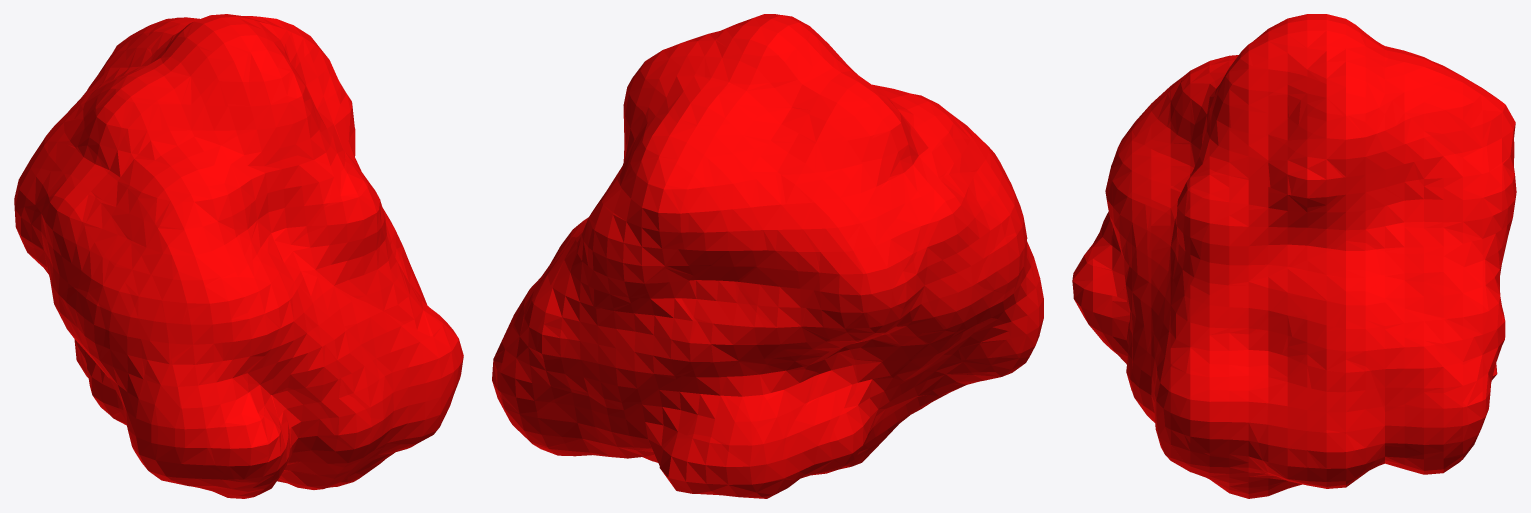
Rendered from ispA_coarse.dae.
3 renders of one model, left to right at view 1: azimuth 30°, elevation 25°; view 2: azimuth 150°, elevation 25°; view 3: azimuth 270°, elevation 25°, orthographic. The views are drawn at different scales.
Parts seen in each view (by area): view 1: ispA; view 2: ispA; view 3: ispA.
Part boxes in pixels (box(x1,y1,x2,y2)): ispA: box(14, 14, 463, 498); ispA: box(492, 14, 1043, 498); ispA: box(1072, 14, 1516, 498).
Size of the model in its own units: 49.35 by 54.56 by 50.19.
